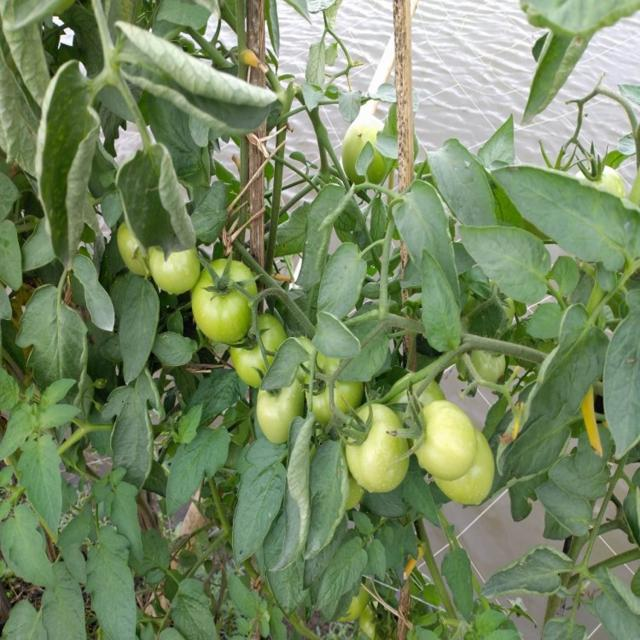tomato: (347, 411, 413, 488), (196, 263, 260, 340), (416, 397, 473, 473), (310, 353, 362, 421), (445, 438, 496, 506), (257, 377, 309, 438), (234, 317, 286, 376), (345, 113, 388, 184), (152, 247, 205, 294), (577, 160, 628, 203), (116, 224, 154, 274), (345, 576, 371, 623)
